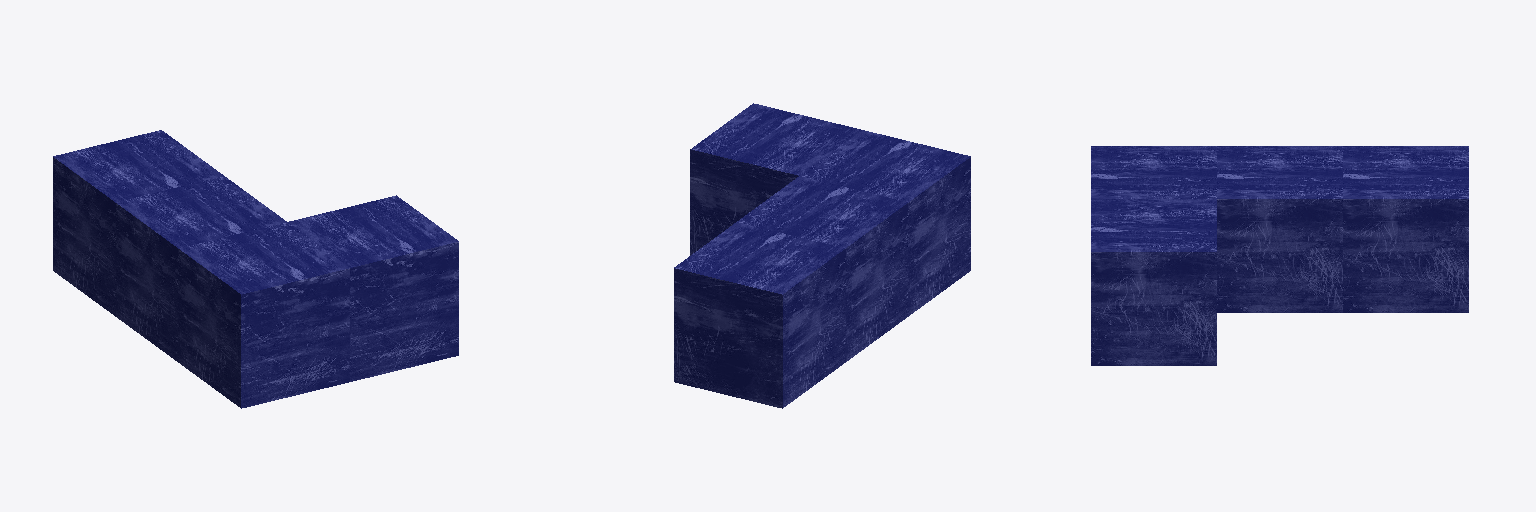
The picture shows the model from 3 angles: view 1: azimuth 30°, elevation 25°; view 2: azimuth 150°, elevation 25°; view 3: azimuth 270°, elevation 25°; orthographic projection.
Visible parts, largest first — view 1: Cube.001, Cube.002, Cube.004, Cube.003; view 2: Cube.004, Cube.001, Cube.003, Cube.002; view 3: Cube.003, Cube.002, Cube.004, Cube.001.
Boxes of the visible parts, <box> form: Cube.001: <box>178,222,349,408</box>; Cube.002: <box>288,195,458,381</box>; Cube.004: <box>53,130,223,316</box>; Cube.003: <box>116,176,286,361</box>; Cube.004: <box>674,222,845,408</box>; Cube.001: <box>800,130,970,316</box>; Cube.003: <box>737,176,907,361</box>; Cube.002: <box>690,103,861,255</box>; Cube.003: <box>1217,146,1342,312</box>; Cube.002: <box>1091,199,1216,365</box>; Cube.004: <box>1343,146,1468,312</box>; Cube.001: <box>1091,146,1216,198</box>.
Bounding box in the file's own units: 4 × 2 × 6.
Materials: 1 (1 with a texture image).